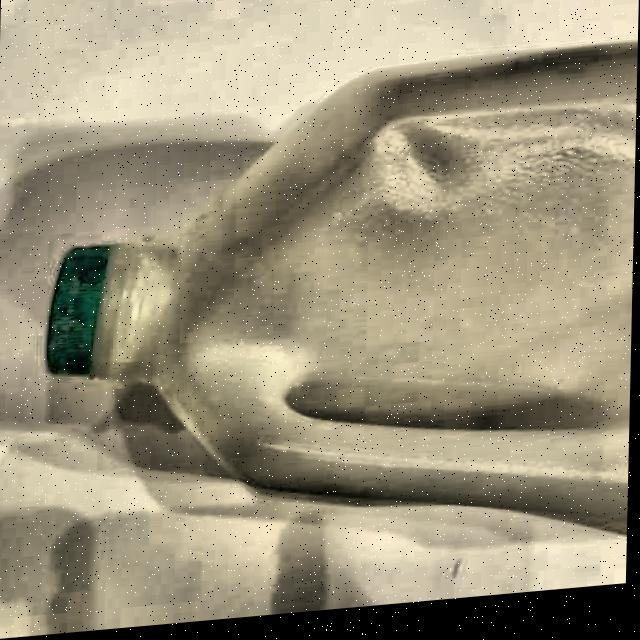plastic: (39, 39, 638, 575)
